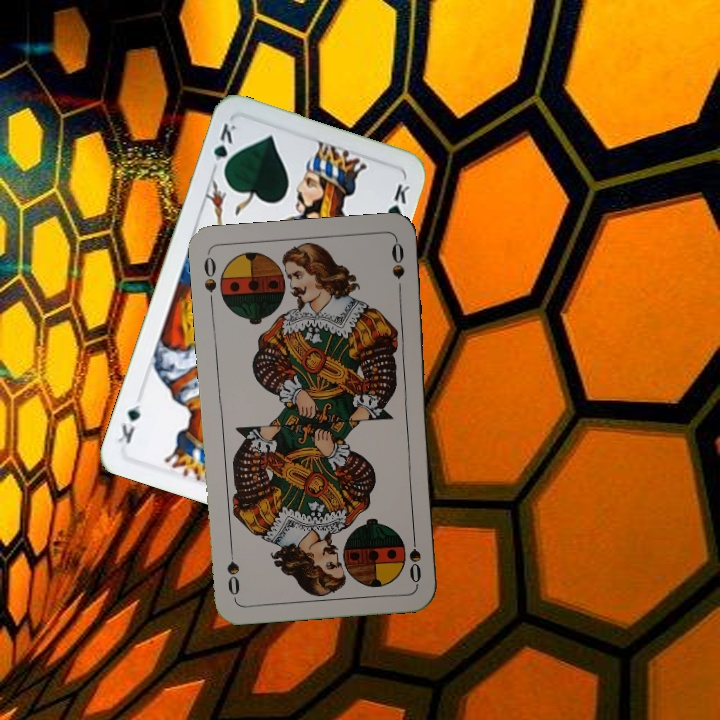GK: (208, 119, 239, 177)
SO: (405, 526, 424, 586), (200, 253, 219, 310)
